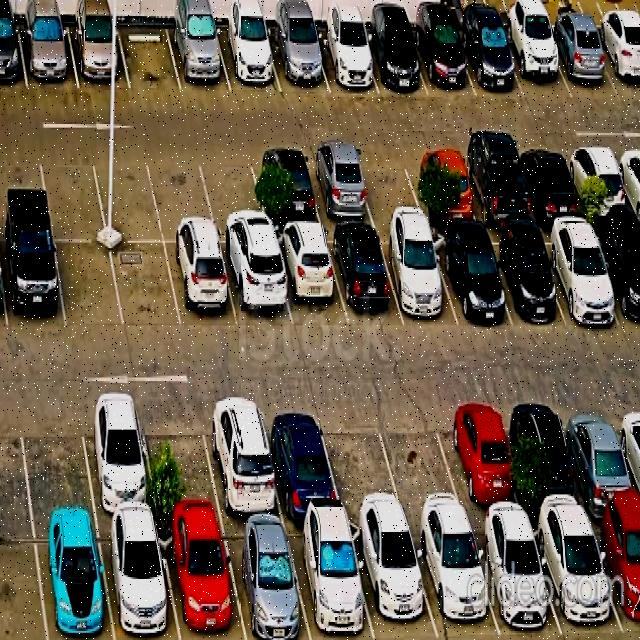empty: (375, 400, 468, 520), (318, 402, 405, 519), (139, 399, 222, 520), (17, 398, 95, 520), (197, 150, 270, 243), (91, 151, 163, 242), (148, 151, 218, 242), (38, 150, 107, 240), (111, 243, 181, 331), (55, 242, 124, 329), (353, 149, 425, 222), (118, 25, 181, 91)
occupied: (529, 517, 624, 640), (469, 520, 562, 637), (348, 521, 438, 640), (409, 521, 500, 638), (221, 522, 311, 640), (285, 521, 374, 640), (438, 399, 525, 519), (158, 522, 245, 640), (200, 397, 283, 519), (259, 400, 343, 518), (98, 520, 180, 640), (78, 397, 158, 518), (508, 397, 588, 518), (559, 398, 640, 516), (33, 521, 113, 640), (537, 225, 621, 323), (430, 231, 512, 327), (481, 231, 564, 325), (377, 230, 458, 326), (272, 230, 348, 329), (325, 229, 403, 325), (589, 514, 640, 637), (165, 244, 238, 329), (0, 236, 65, 330), (220, 245, 293, 328), (458, 148, 534, 224), (249, 150, 322, 227), (406, 149, 479, 223), (304, 150, 375, 224), (590, 224, 640, 329), (544, 28, 619, 98), (500, 28, 572, 100), (515, 146, 584, 219), (564, 145, 632, 218), (456, 26, 524, 97), (410, 25, 476, 97), (360, 29, 428, 95), (215, 27, 281, 92), (167, 25, 231, 92), (312, 31, 378, 94), (67, 25, 130, 89), (18, 25, 79, 89), (267, 30, 329, 92), (592, 30, 640, 99)
